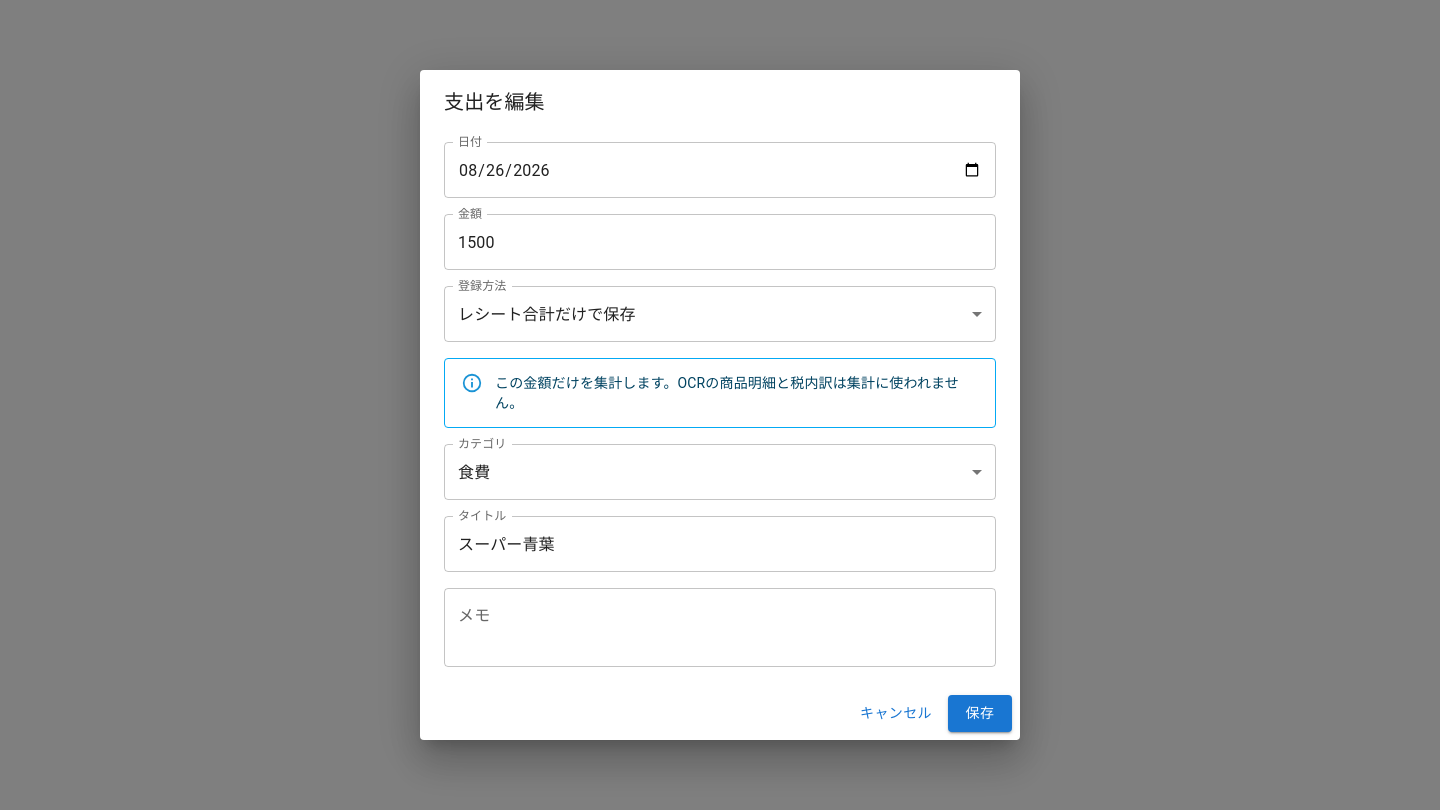
Scenario: ExpenseEntryEditDialog AI draft history › 登録済み下書きの明細上限エラーを表示する
Click the button "保存" at (980, 714), box [948,695,1012,732]
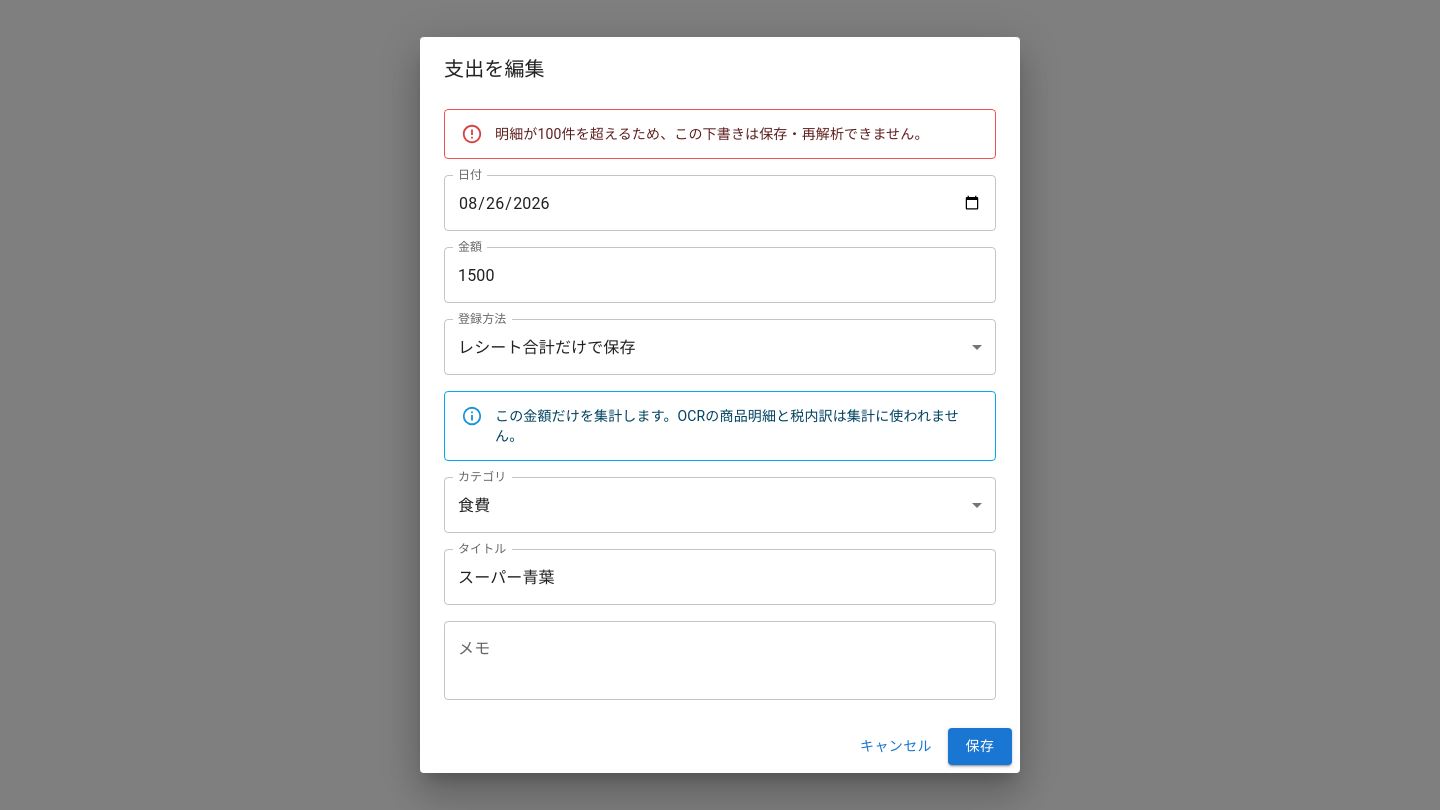
Expected: the text "明細が100件を超えるため、この下書きは保存・再解析できません。" is shown, [495,126,929,142]
